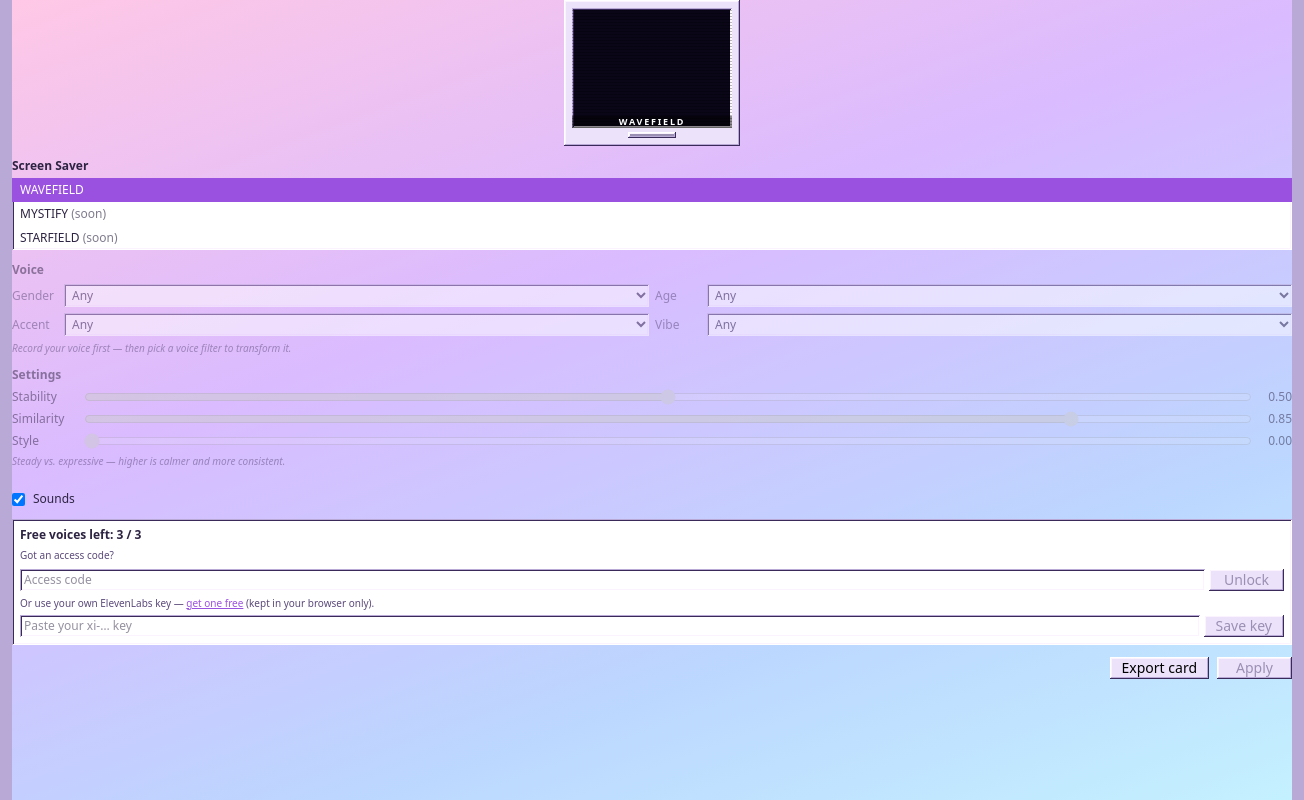
Test: FilterPicker › shows the free-trial counter and unlocks with a valid access code
The width and height of the screenshot is (1304, 800).
Type "GOODCODE" into the field labelled "Access code" at x=612, y=580, box [20,569,1205,591]
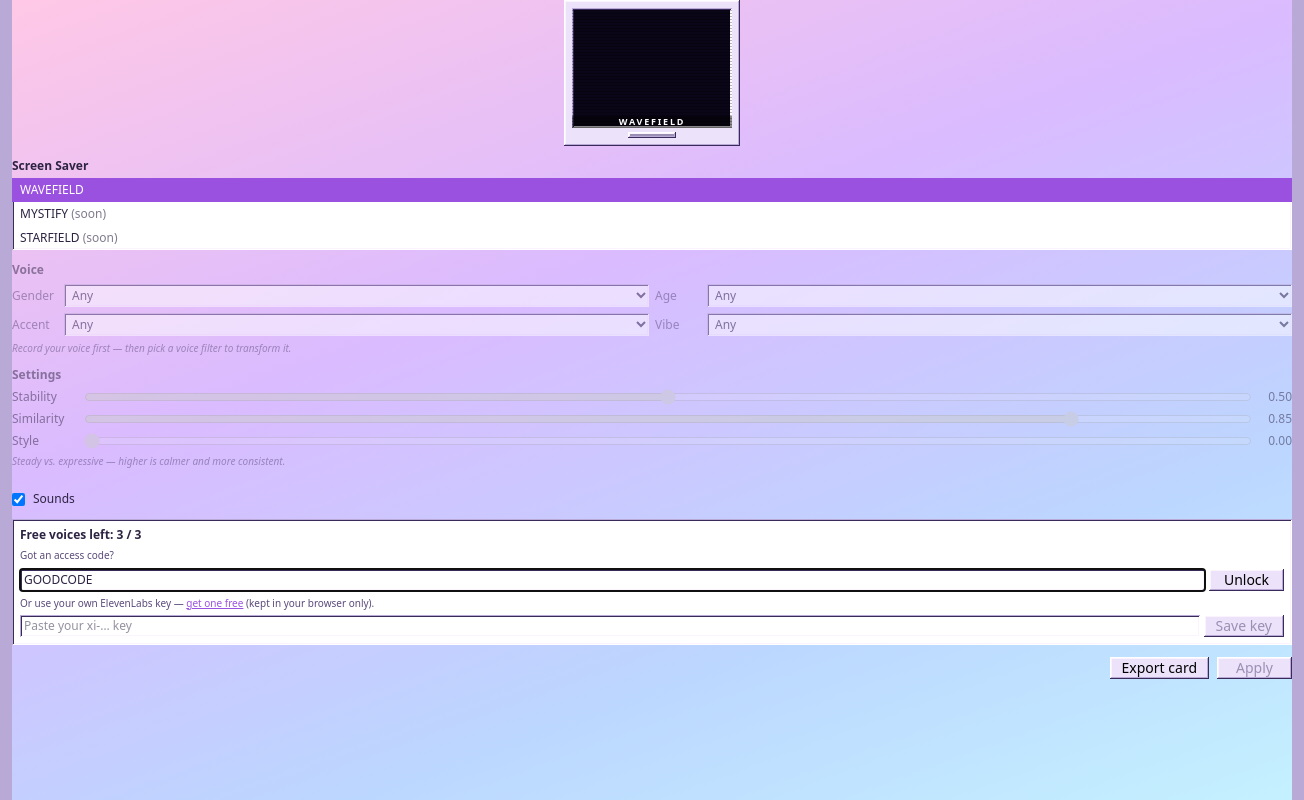
Click the button "Unlock" at x=1246, y=580, box [1209,569,1284,591]
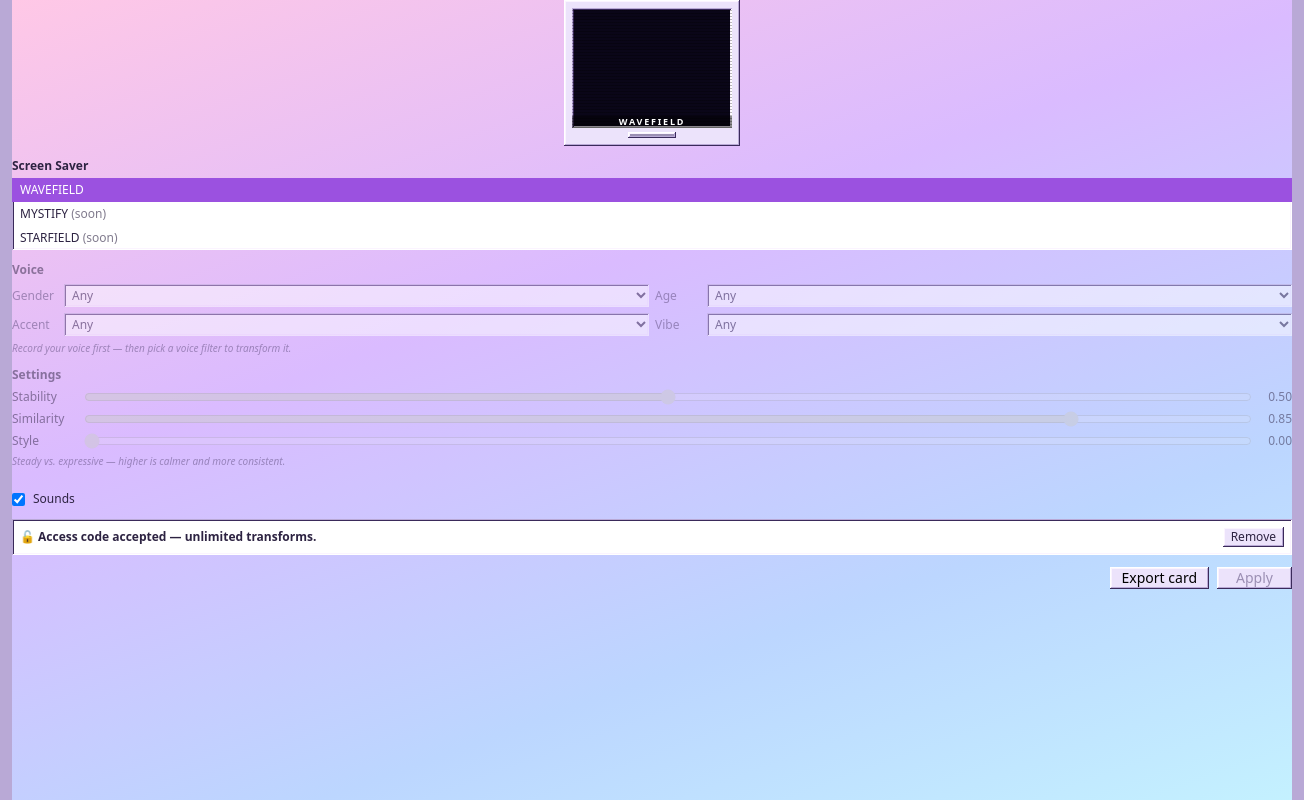
expect the text "🔓 Access code accepted — unlimited transforms." is shown: met, box [20,529,316,545]
